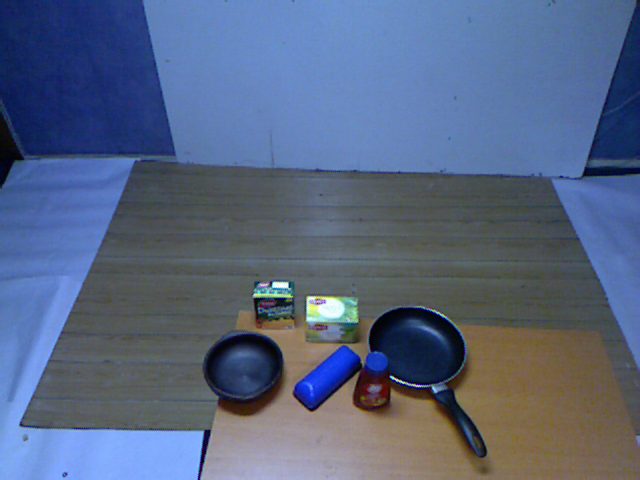borrador: (288, 342, 365, 413)
durazno: (249, 276, 298, 333)
greda: (198, 328, 286, 408)
ketchup: (352, 349, 394, 422)
sarten: (360, 297, 495, 465)
te: (298, 290, 365, 348)
